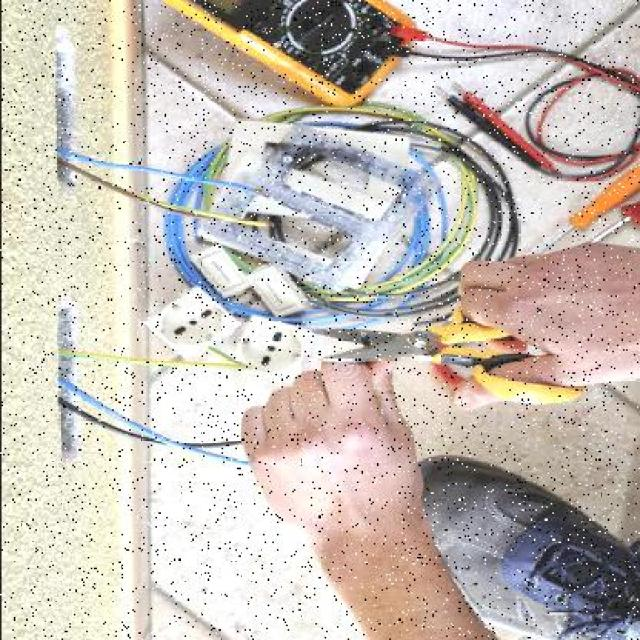shoes: (421, 477, 640, 631)
